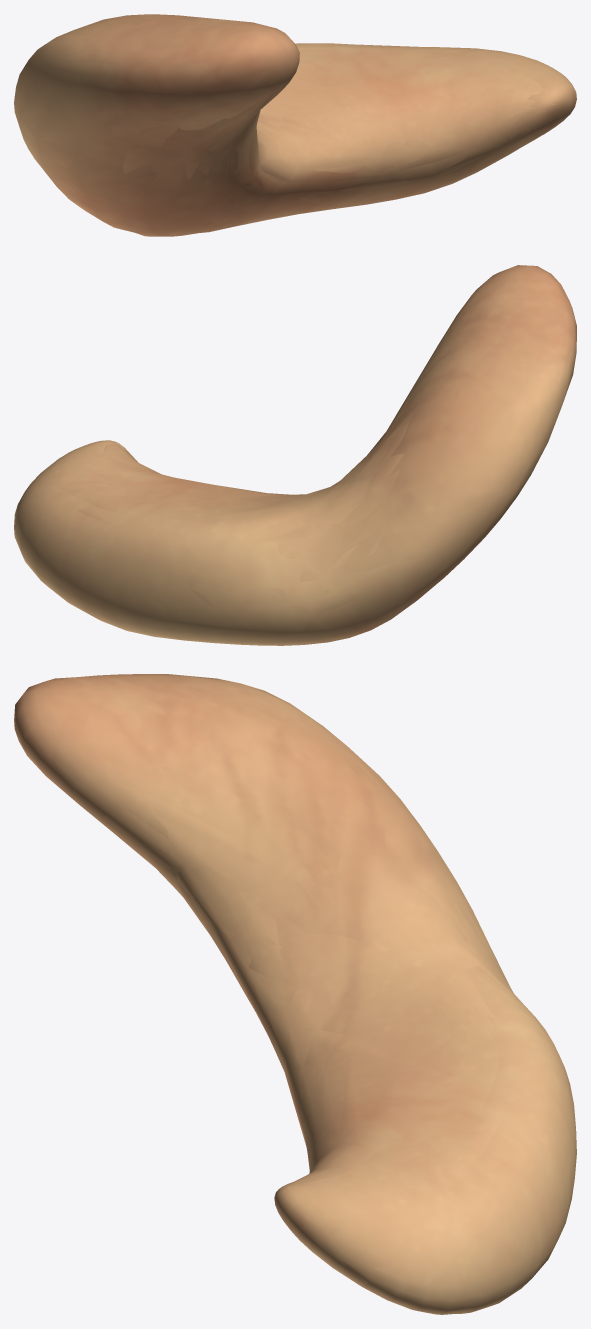
File: Pancreas.fbx
3 renders of one model, top to bottom at view 1: azimuth 30°, elevation 25°; view 2: azimuth 150°, elevation 25°; view 3: azimuth 270°, elevation 25°, orthographic. The views are drawn at different scales.
Visible parts, largest first — view 1: Pancreas high, Pancreas low, Pancreas; view 2: Pancreas high, Pancreas, Pancreas low; view 3: Pancreas high, Pancreas, Pancreas low.
Boxes of the visible parts, box(x1,y1,x2,y2) form: Pancreas high: box(14, 14, 576, 236); Pancreas low: box(122, 44, 526, 219); Pancreas: box(14, 16, 575, 236); Pancreas high: box(14, 265, 576, 645); Pancreas: box(15, 265, 576, 640); Pancreas low: box(77, 386, 533, 594); Pancreas high: box(14, 674, 576, 1314); Pancreas: box(14, 677, 573, 1314); Pancreas low: box(126, 811, 516, 1174).
Bounding box in the file's own units: 4.4 × 2.63 × 3.17.
Materials: 1 (1 with a texture image).
